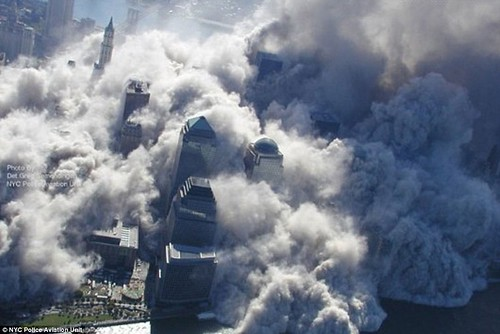building: (158, 187, 222, 329), (122, 77, 159, 159), (83, 220, 139, 274), (175, 116, 220, 183), (244, 137, 285, 188), (95, 16, 119, 77)
smoke: (5, 14, 495, 334)
